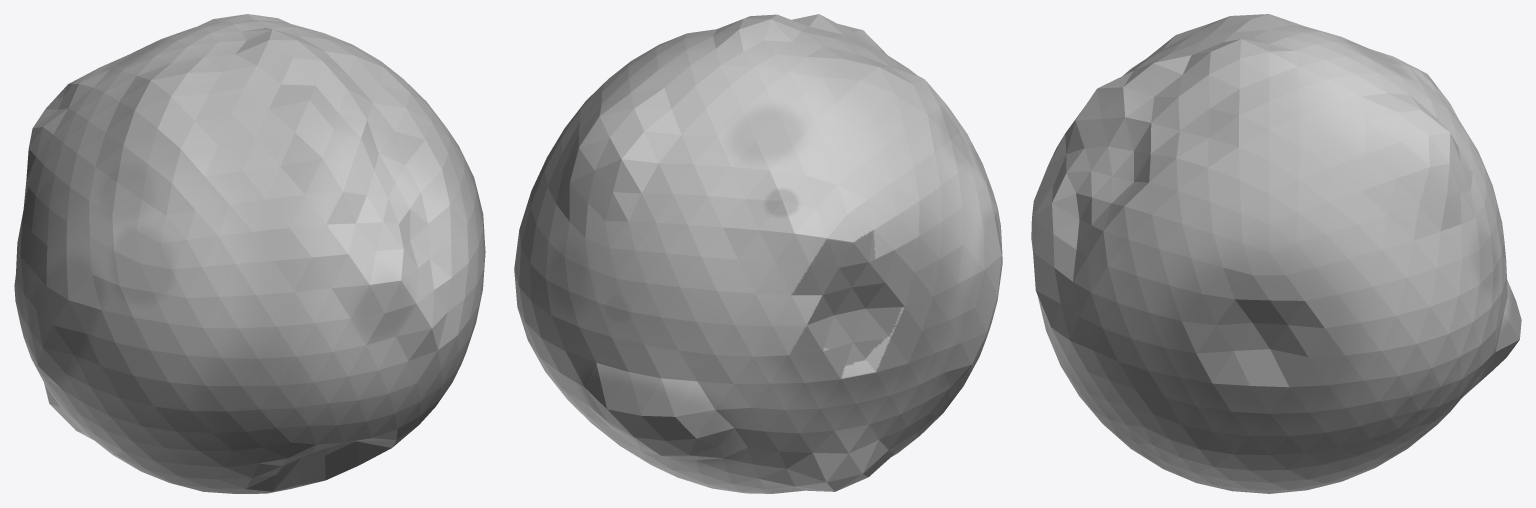
File: planet.glb
The picture shows the model from 3 angles, left to right: view 1: azimuth 30°, elevation 25°; view 2: azimuth 150°, elevation 25°; view 3: azimuth 270°, elevation 25°; orthographic projection.
Visible parts, largest first — view 1: Icosphere; view 2: Icosphere; view 3: Icosphere.
Boxes of the visible parts, x1,y1,x2,y2 form: Icosphere: [14, 14, 485, 493]; Icosphere: [514, 14, 1002, 493]; Icosphere: [1031, 14, 1521, 493].
Bounding box in the file's own units: 20.35 × 20.49 × 20.88.
Materials: 1 (1 with a texture image).
